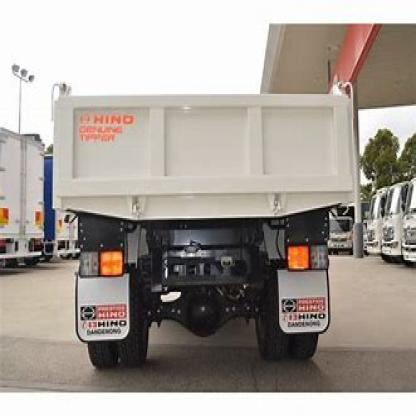dump_truck: (35, 50, 363, 371)
